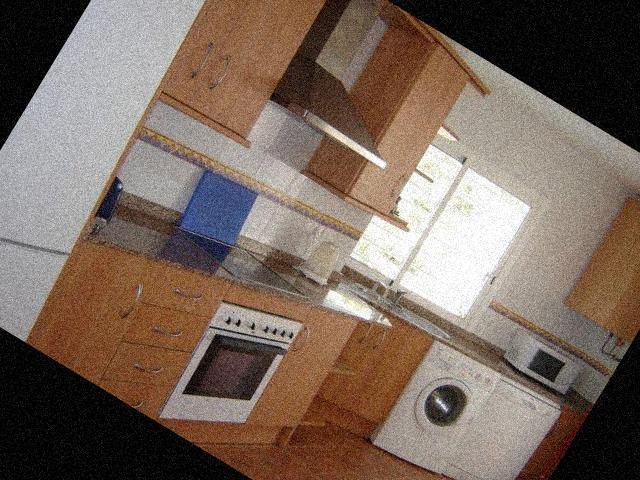Electrodomestico: (0, 0, 244, 339), (143, 241, 322, 444), (374, 332, 506, 480), (441, 361, 570, 480)
Lavaplatos: (349, 264, 431, 339)
